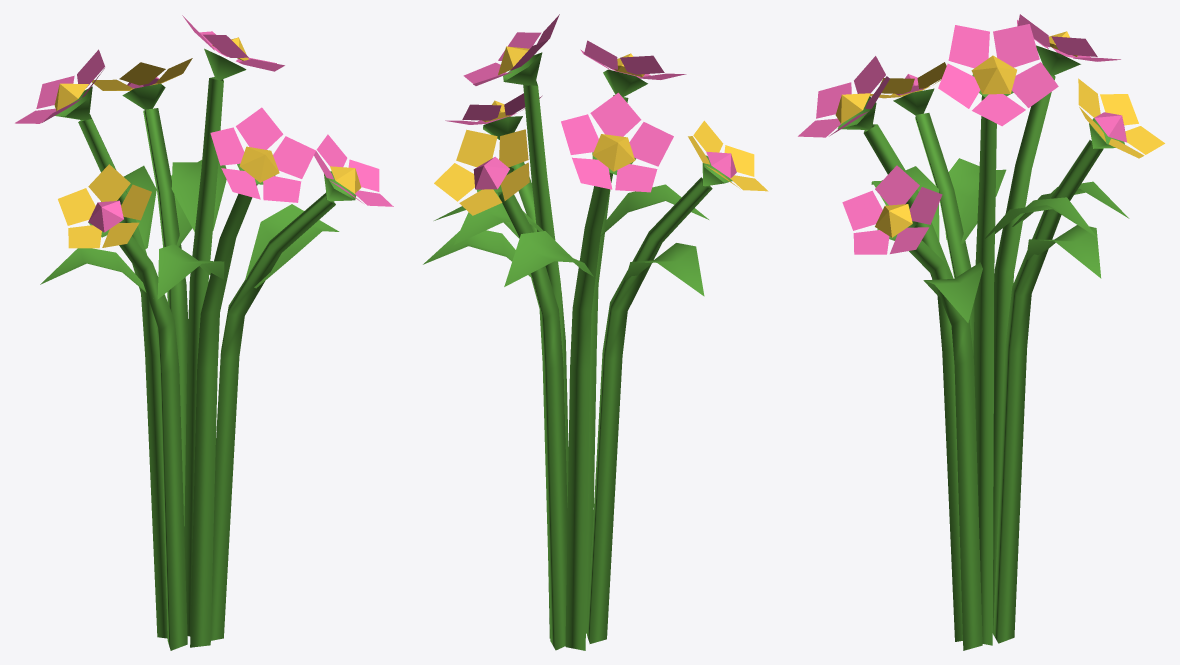
The model's file is flower_patch.glb.
3 views of the same model, side by side, from view 1: azimuth 30°, elevation 25°; view 2: azimuth 150°, elevation 25°; view 3: azimuth 270°, elevation 25° (orthographic). The views are drawn at different scales.
Parts seen in each view (by area): view 1: flower_patch; view 2: flower_patch; view 3: flower_patch.
Boxes of the visible parts, x1,y1,x2,y2 form: flower_patch: (15,15,393,650); flower_patch: (423,14,768,650); flower_patch: (798,14,1164,650).
Size of the model in its own units: 0.4696 by 0.8597 by 0.4586.
